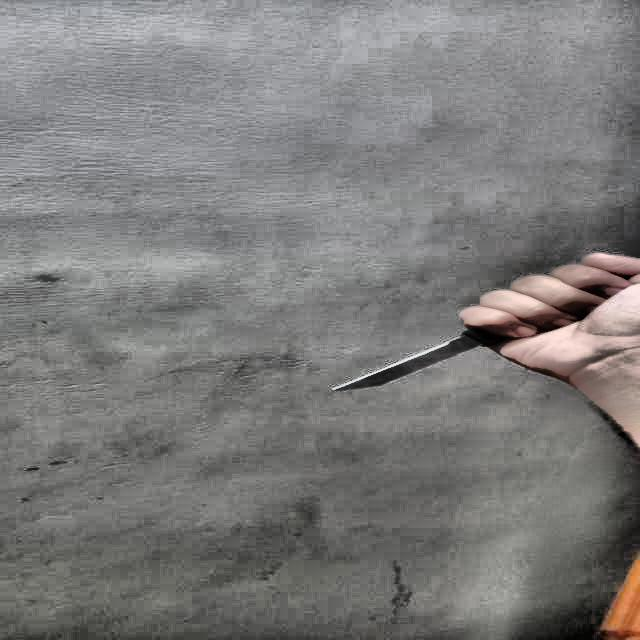knife: (332, 327, 511, 390)
